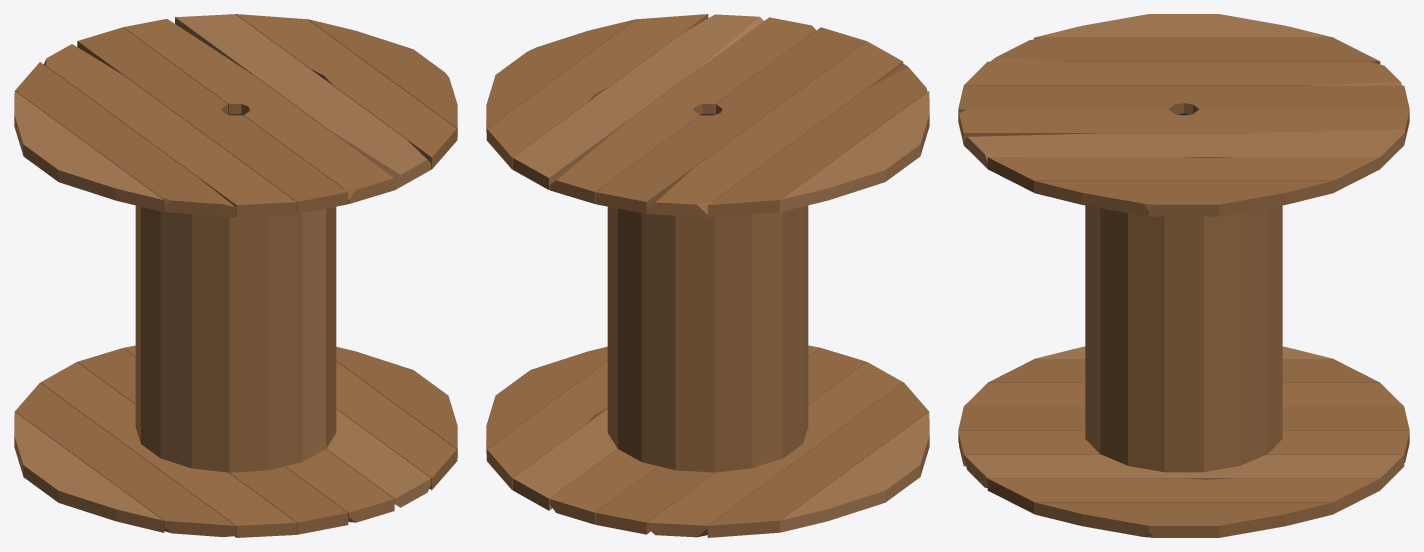
The model's file is CableReel_01.fbx.
The picture shows the model from 3 angles, left to right: view 1: azimuth 30°, elevation 25°; view 2: azimuth 150°, elevation 25°; view 3: azimuth 270°, elevation 25°; orthographic projection.
Visible parts, largest first — view 1: CableReel_01; view 2: CableReel_01; view 3: CableReel_01.
Part boxes in pixels (x1,y1,x2,y2): CableReel_01: (14, 14, 457, 537); CableReel_01: (486, 14, 929, 537); CableReel_01: (958, 14, 1409, 537).
Size of the model in its own units: 157 by 128 by 158.
